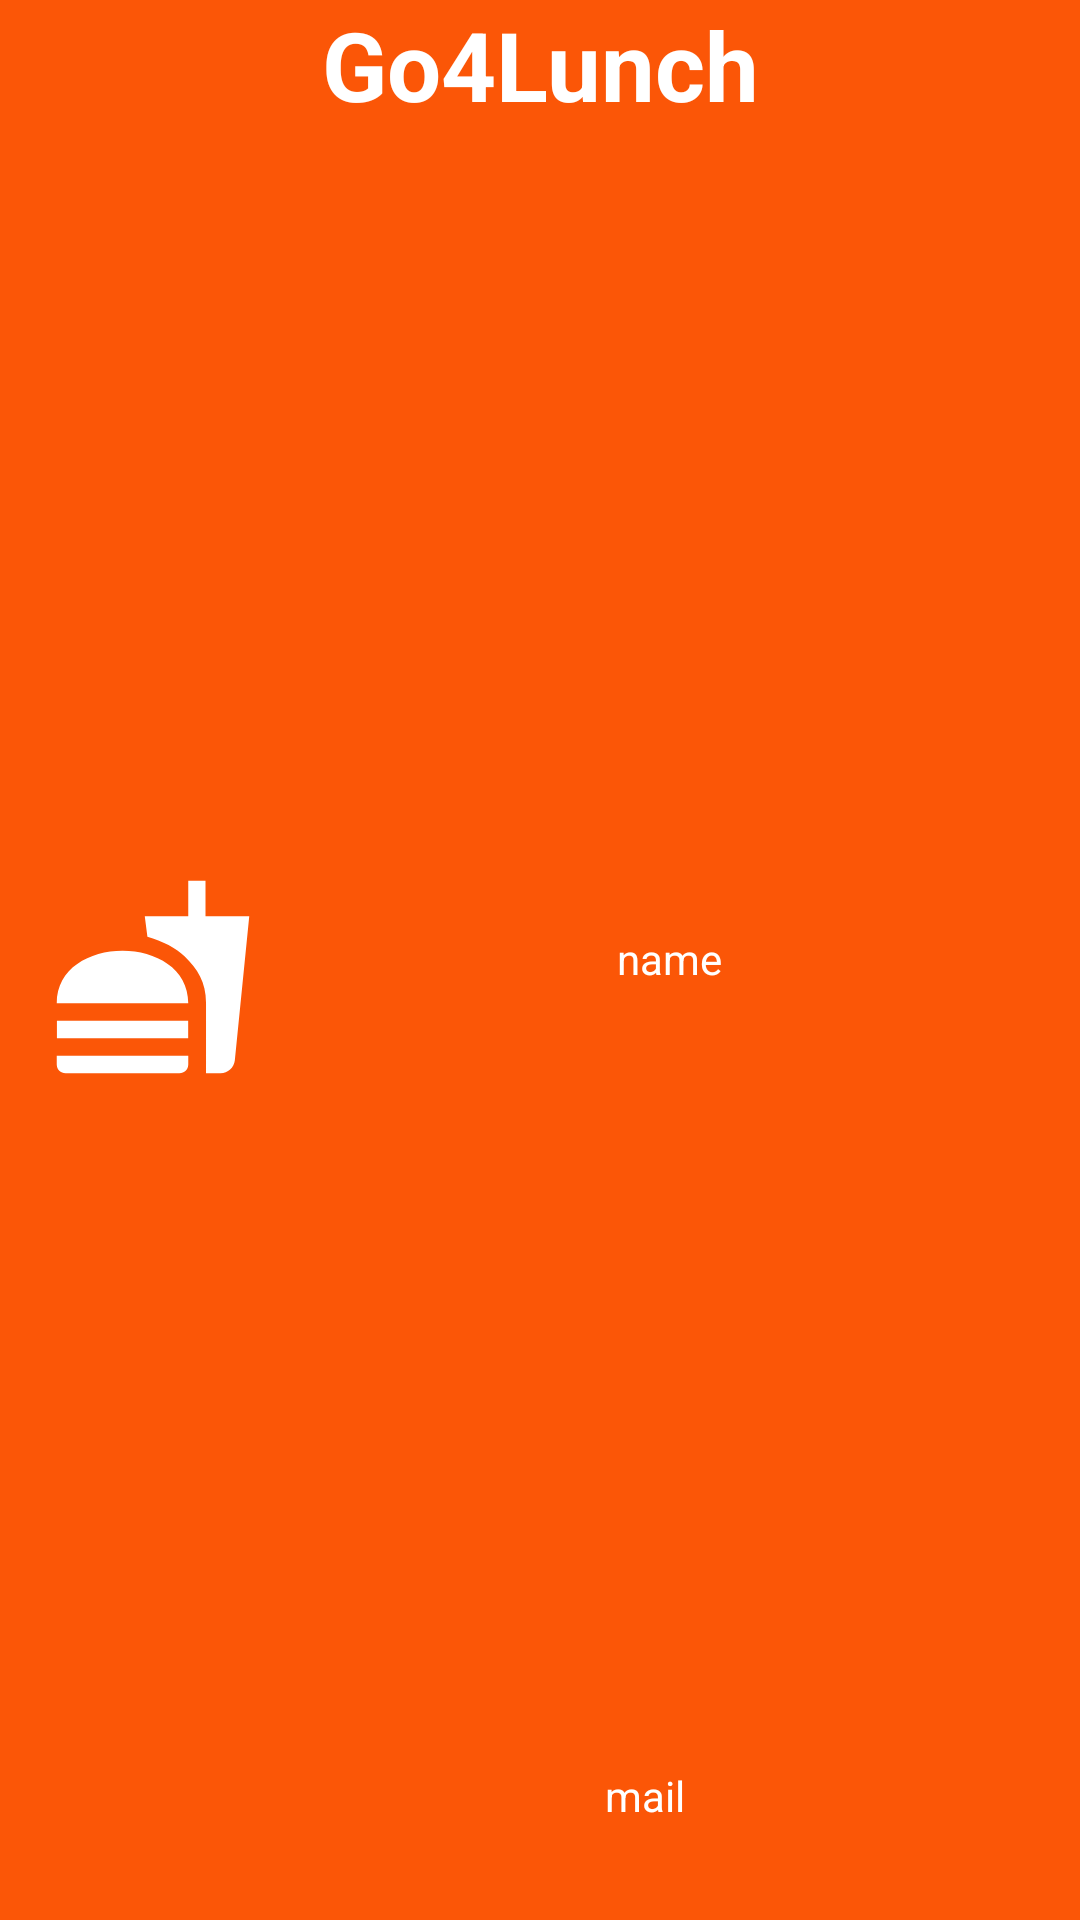

Where to tap for icons on this 1080 × 1920 app screen, as (x,y):
fastfood: (153,977)
